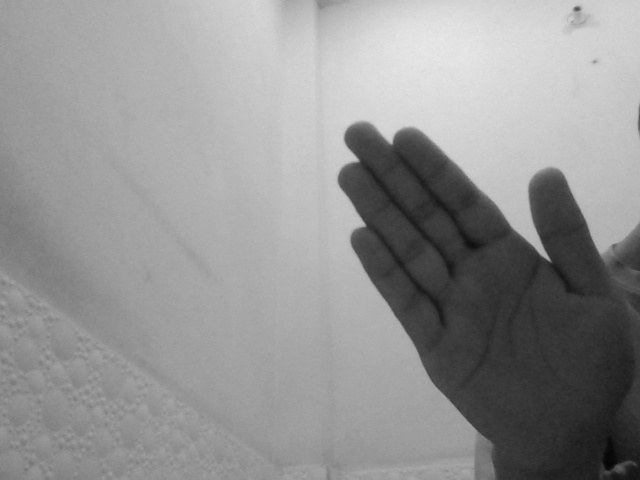Hello: (334, 119, 633, 465)
